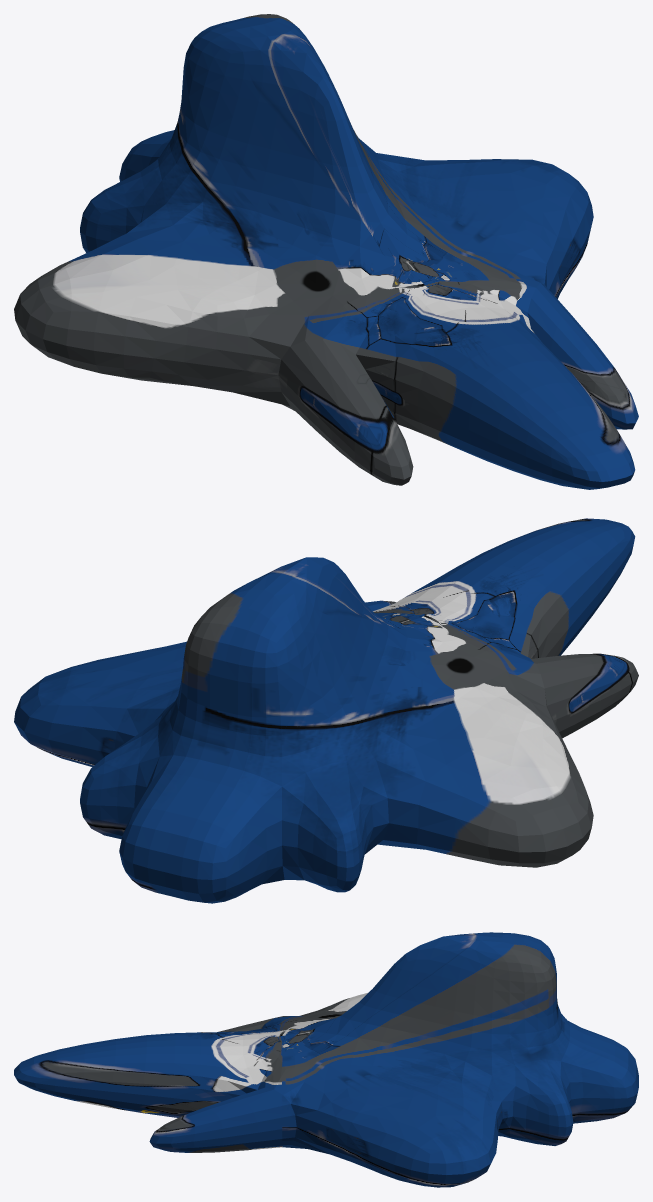
Rendered from StarSparrow_finale_scudo2.fbx.
The picture shows the model from 3 angles, top to bottom: view 1: azimuth 30°, elevation 25°; view 2: azimuth 150°, elevation 25°; view 3: azimuth 270°, elevation 25°; orthographic projection. The views are drawn at different scales.
Parts seen in each view (by area): view 1: Polygon; view 2: Polygon; view 3: Polygon.
Part boxes in pixels (x1,y1,x2,y2): Polygon: (14, 14, 638, 489); Polygon: (14, 518, 638, 903); Polygon: (14, 932, 638, 1187).
Size of the model in its own units: 828 by 368 by 1169.
Materials: 1 (1 with a texture image).
